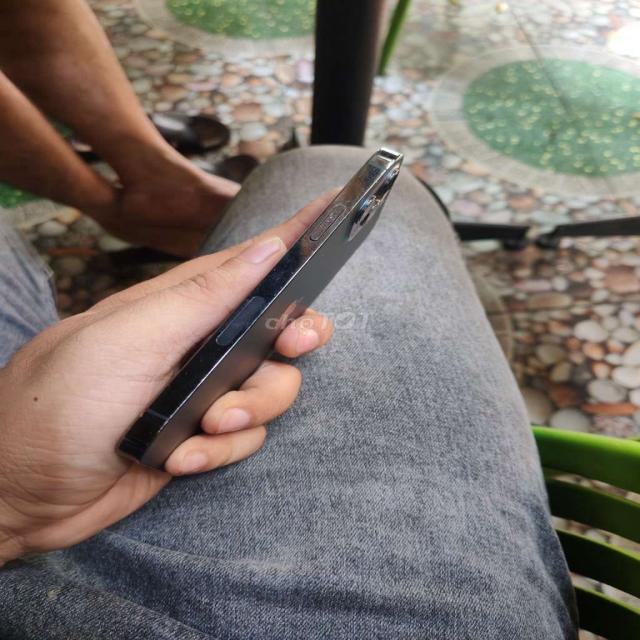gen_12_13: (113, 146, 407, 468)
scratch: (169, 162, 382, 364)
